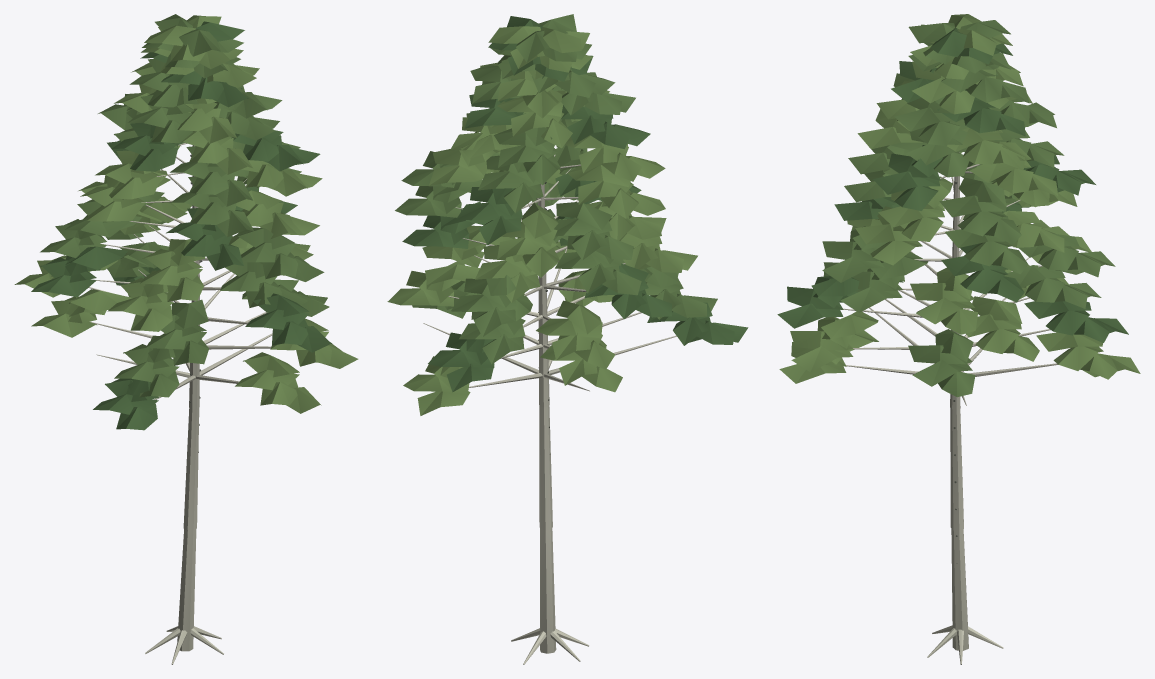
File: taiga-birch.glb
3 renders of one model, left to right at view 1: azimuth 30°, elevation 25°; view 2: azimuth 150°, elevation 25°; view 3: azimuth 270°, elevation 25°, orthographic.
Parts seen in each view (by area): view 1: Берёза бореальная; view 2: Берёза бореальная; view 3: Берёза бореальная.
Part boxes in pixels (<box>): Берёза бореальная: <box>14,14,358,664</box>; Берёза бореальная: <box>387,14,748,664</box>; Берёза бореальная: <box>777,14,1140,664</box>.
Size of the model in its own units: 9.22 by 19.62 by 10.31.
